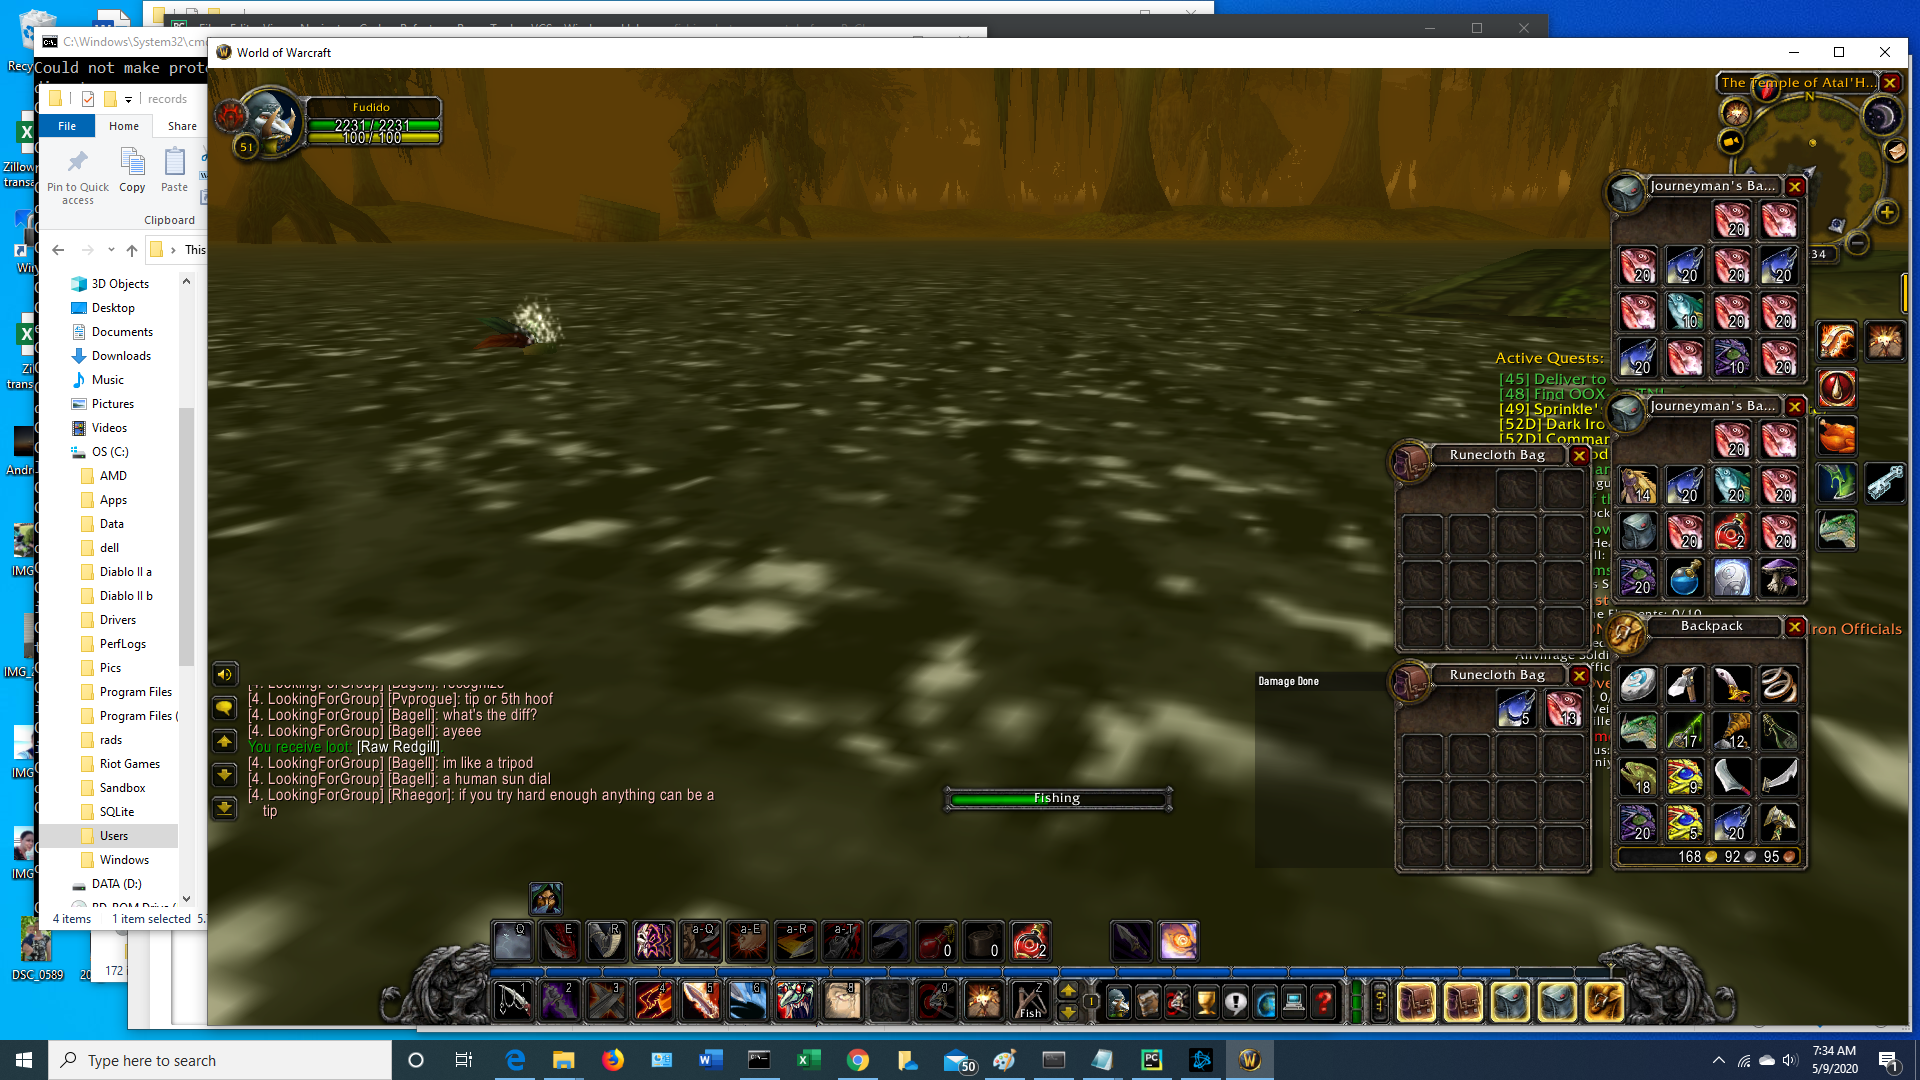bobber: (473, 309, 560, 367)
